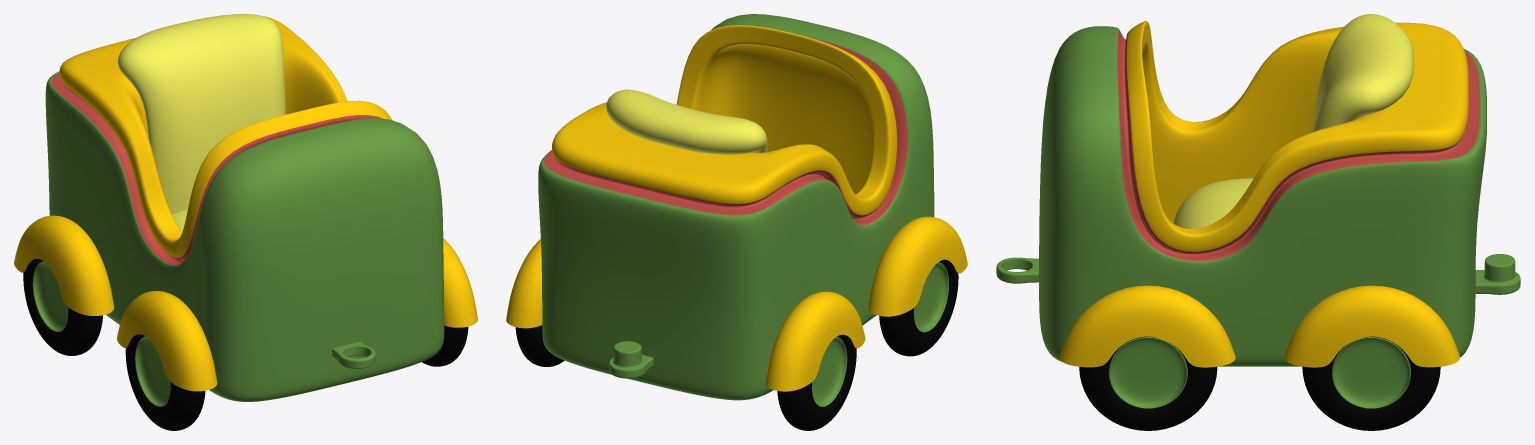
File: greenwagon.fbx
3 renders of one model, left to right at view 1: azimuth 30°, elevation 25°; view 2: azimuth 150°, elevation 25°; view 3: azimuth 270°, elevation 25°, orthographic. The views are drawn at different scales.
Parts seen in each view (by area): view 1: Body, Whells, Back, Cylinder.001; view 2: Body, Whells, Back, Cylinder.010; view 3: Body, Whells, Back, Seat, Cylinder.010, Cylinder.001.
Boxes of the visible parts, box(x1,y1,x2,y2) form: Body: box(45, 16, 444, 401); Whells: box(14, 215, 477, 430); Back: box(118, 14, 285, 213); Cylinder.001: box(332, 342, 375, 368); Body: box(538, 14, 934, 400); Whells: box(506, 216, 967, 430); Back: box(606, 89, 767, 154); Cylinder.010: box(609, 341, 653, 378); Body: box(1039, 21, 1486, 366); Whells: box(1059, 285, 1459, 430); Back: box(1311, 14, 1413, 132); Seat: box(1173, 178, 1253, 228); Cylinder.010: box(1475, 254, 1520, 294); Cylinder.001: box(996, 257, 1038, 283).
Size of the model in its own units: 68.52 by 62.53 by 94.5.
